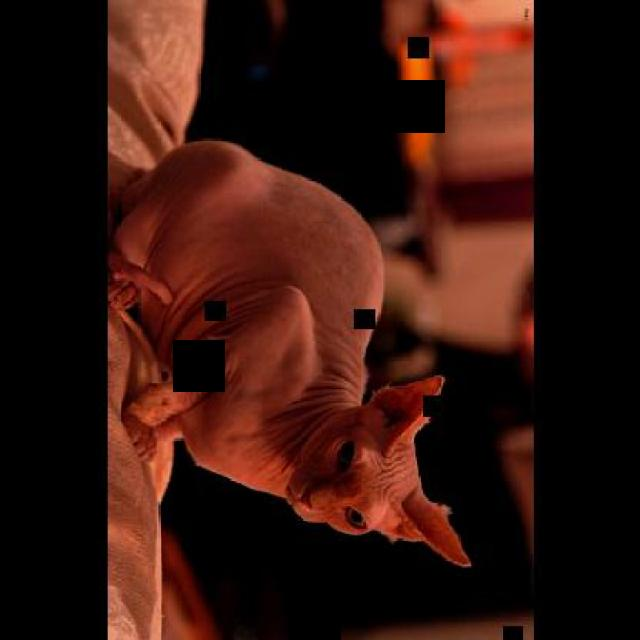unauthorized: (106, 136, 472, 638)
